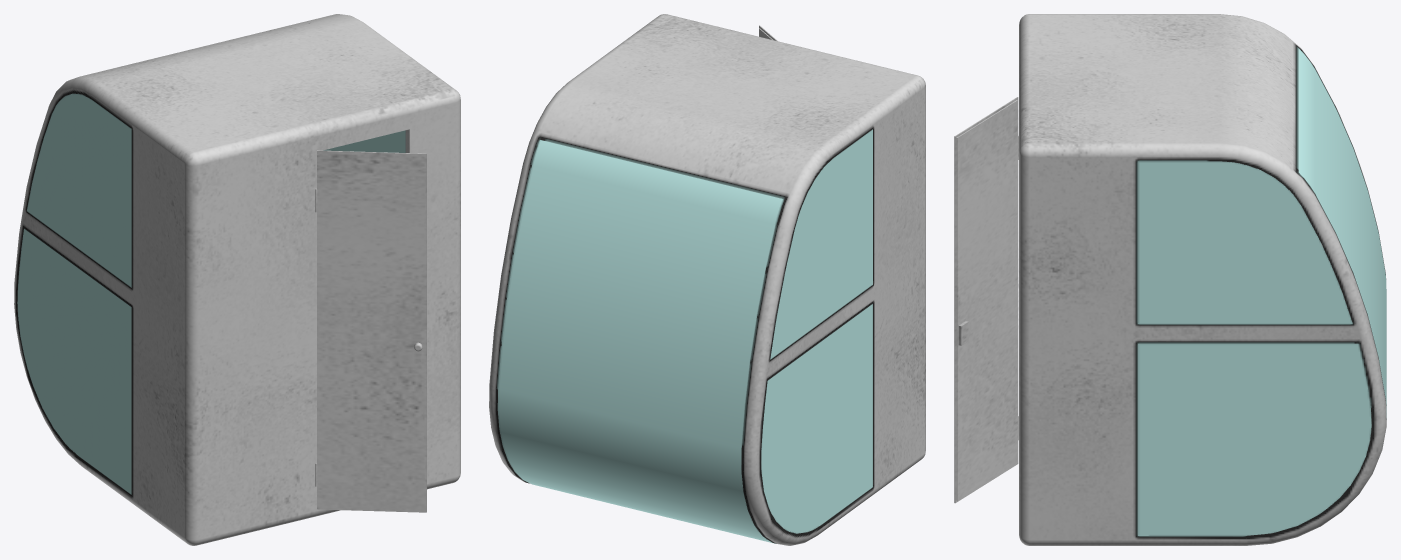
The model's file is Cabin FBX new.fbx.
3 renders of one model, left to right at view 1: azimuth 30°, elevation 25°; view 2: azimuth 150°, elevation 25°; view 3: azimuth 270°, elevation 25°, orthographic. The views are drawn at different scales.
Visible parts, largest first — view 1: cabin1; view 2: cabin1; view 3: cabin1.
Boxes of the visible parts, x1,y1,x2,y2 form: cabin1: (14, 14, 460, 545); cabin1: (489, 14, 925, 545); cabin1: (954, 14, 1386, 545).
Bounding box in the file's own units: 165 × 225 × 220.
Materials: 2 (2 with a texture image).
